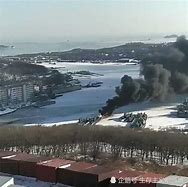smoke: (98, 34, 186, 113)
